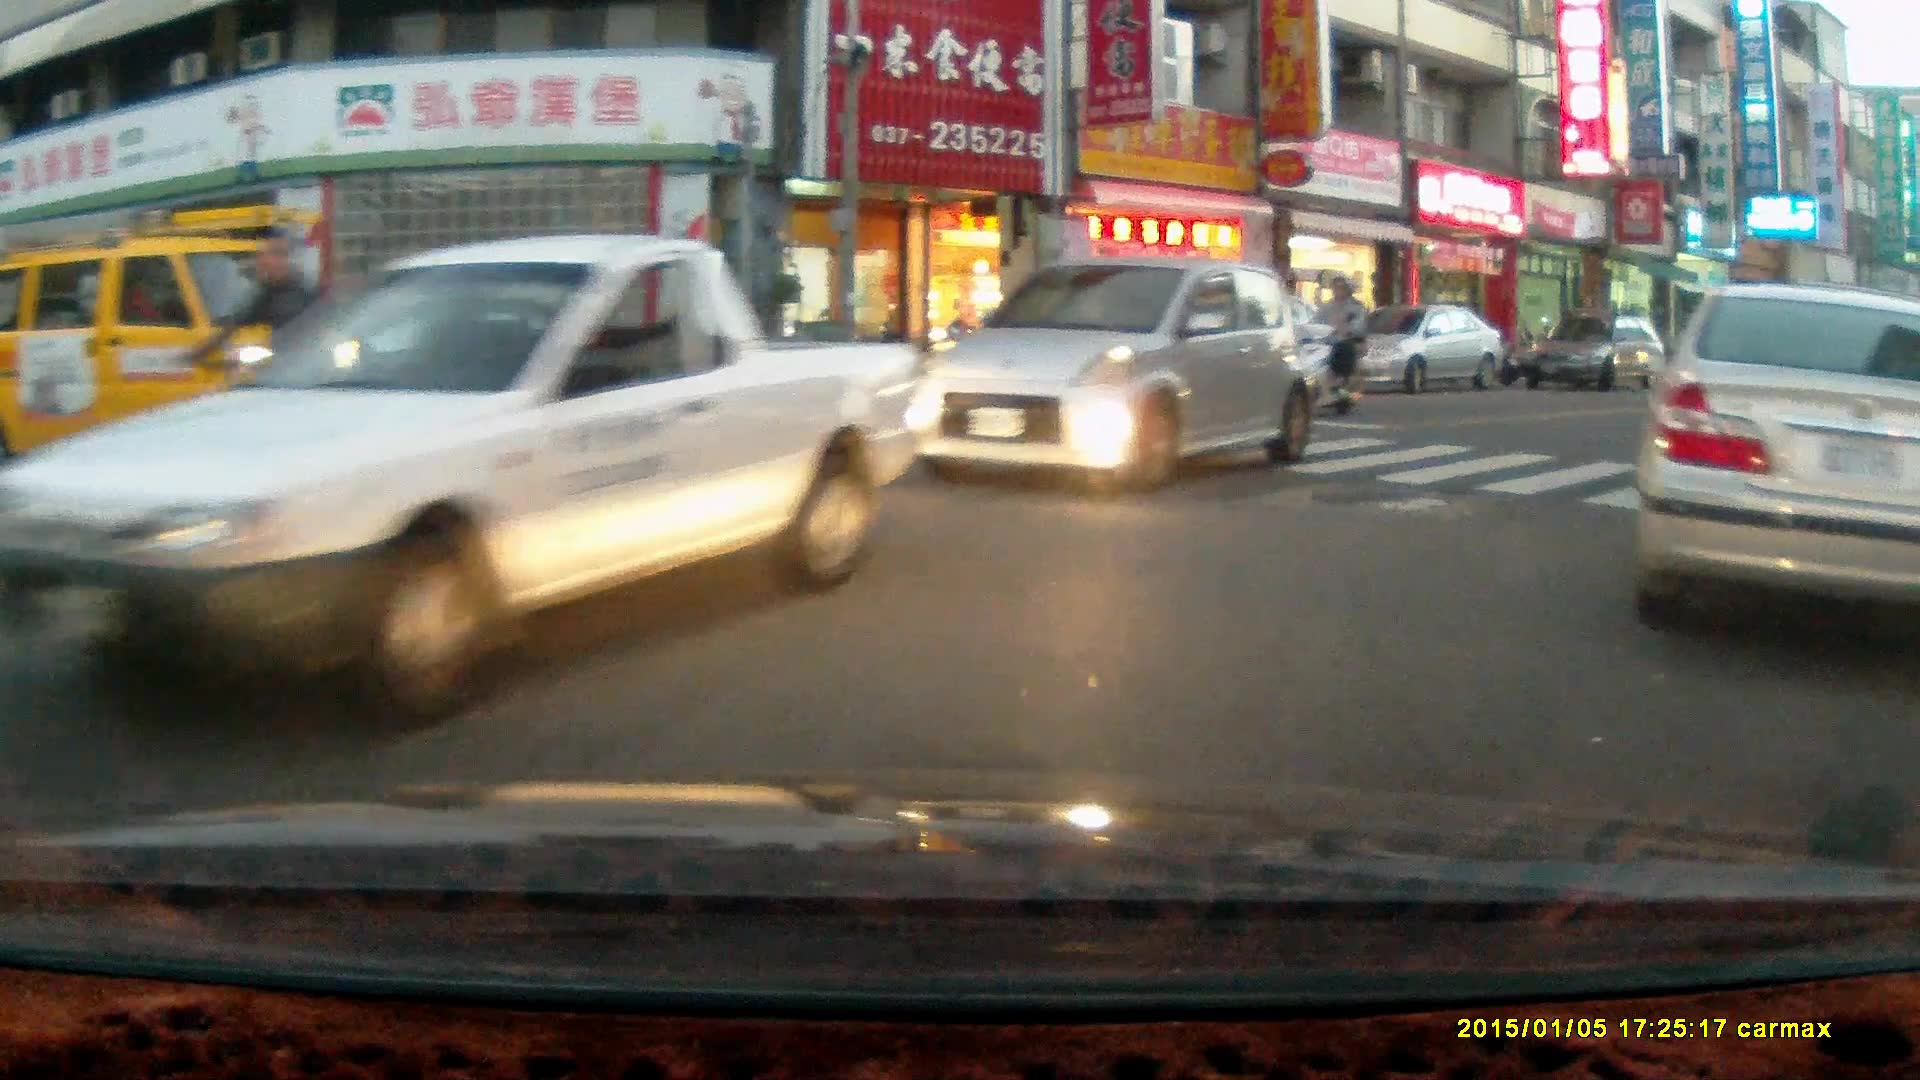rider: (156, 227, 404, 510), (1290, 266, 1366, 420)
vehicle: (26, 231, 947, 725), (1, 203, 376, 491), (1643, 280, 1915, 661), (897, 255, 1324, 492), (1347, 304, 1503, 391), (1517, 314, 1671, 390)
